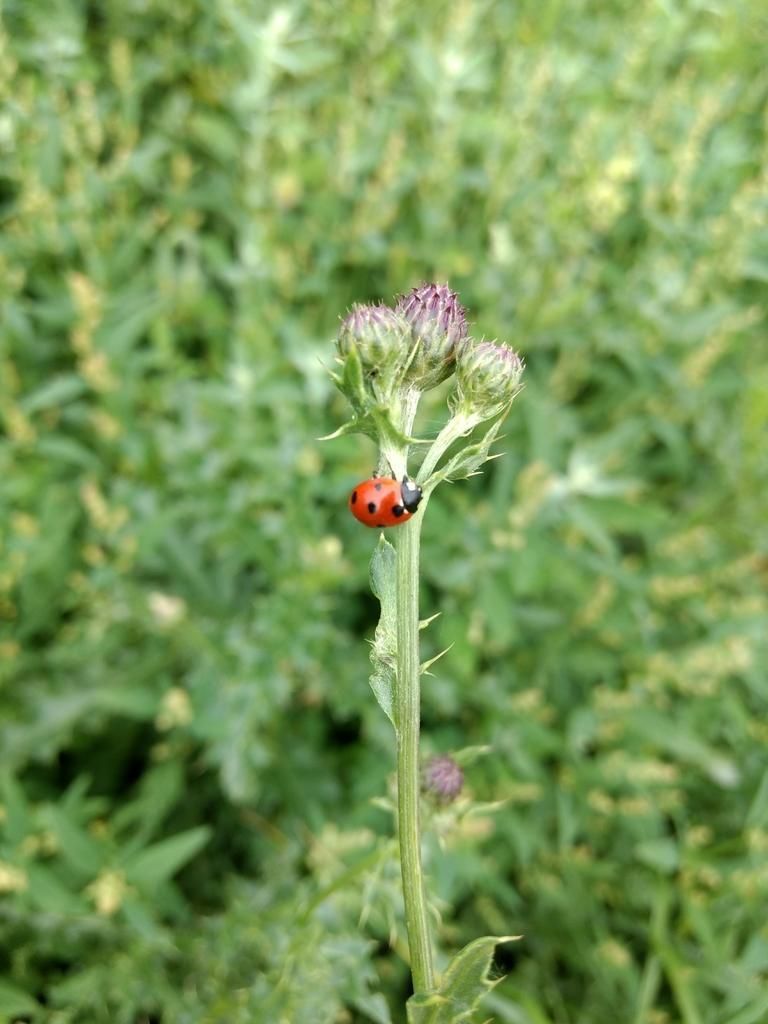ladybug: (349, 461, 426, 531)
